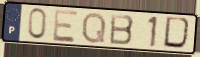0: (27, 6, 48, 41)
1: (146, 15, 160, 49)
B: (108, 12, 136, 46)
D: (162, 15, 194, 52)
E: (52, 8, 80, 44)
Q: (80, 11, 108, 45)
